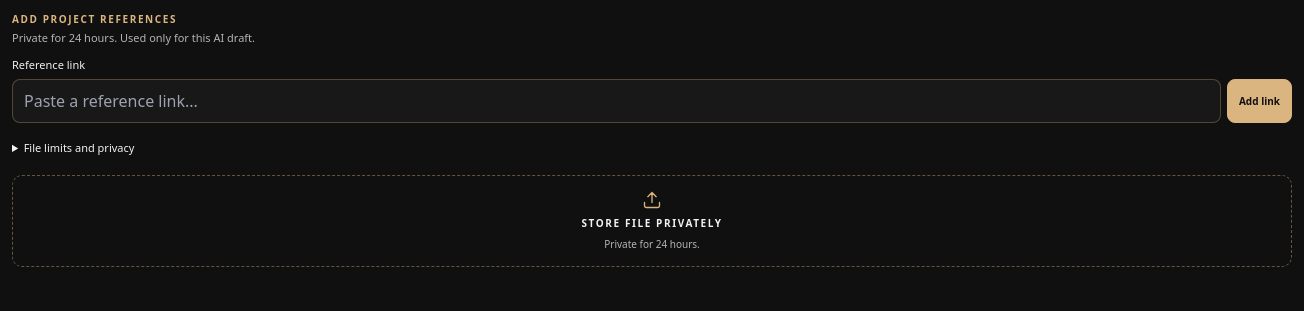
Test: does not open the selector when current message context is confidential
The width and height of the screenshot is (1304, 311).
Click the button "Store file privately Private for 24 hours.".
click(652, 221)  # box [12, 175, 1292, 267]
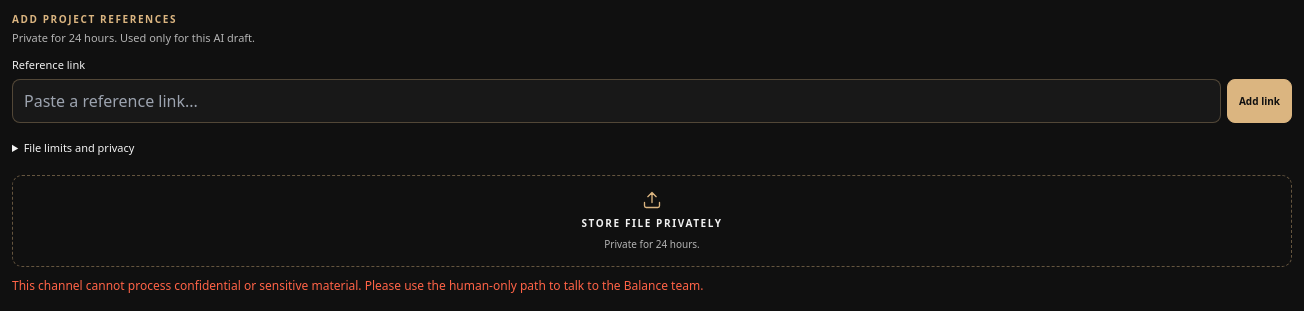
Now the message shows "cannot process confidential or sensitive material", box [12, 277, 703, 294]
